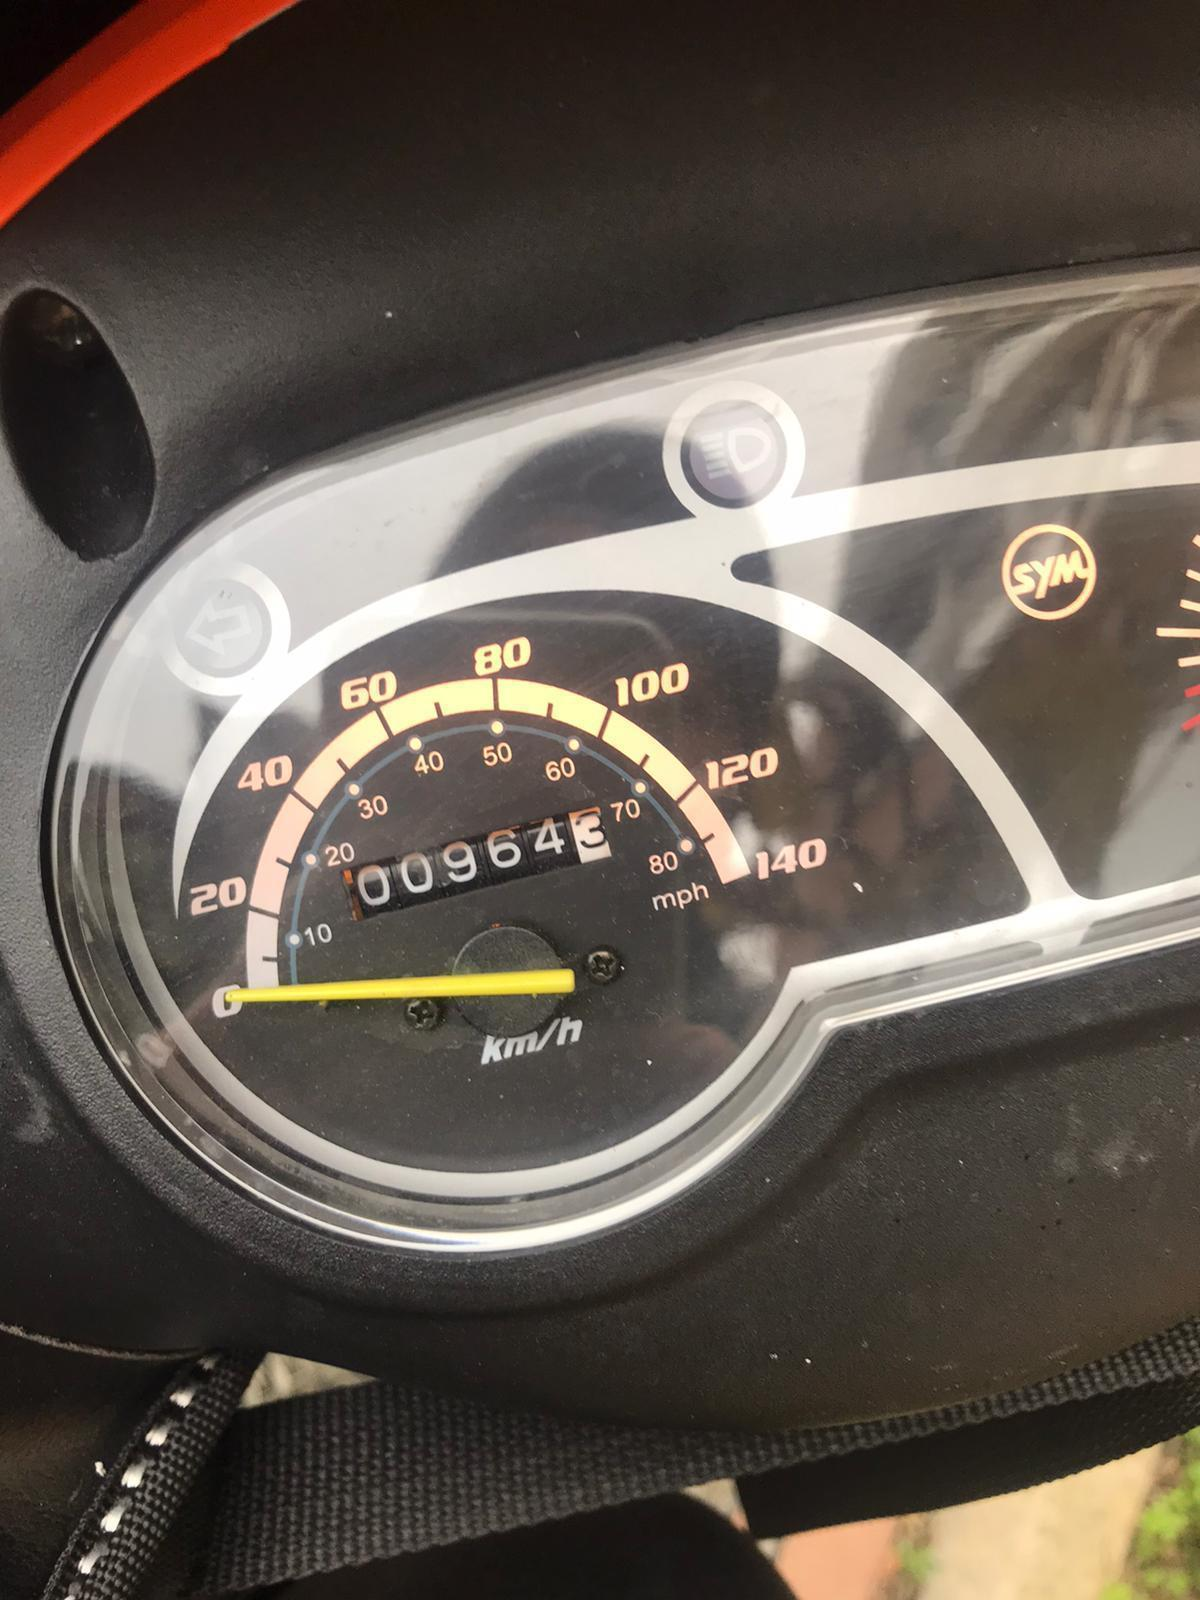0: (396, 847, 436, 900), (355, 860, 393, 908), (371, 790, 389, 815), (340, 839, 355, 866)
3: (568, 808, 613, 858), (355, 795, 369, 821)
4: (531, 815, 563, 860)
6: (482, 824, 523, 873)
9: (442, 837, 479, 888)
odometer: (338, 804, 618, 925)
